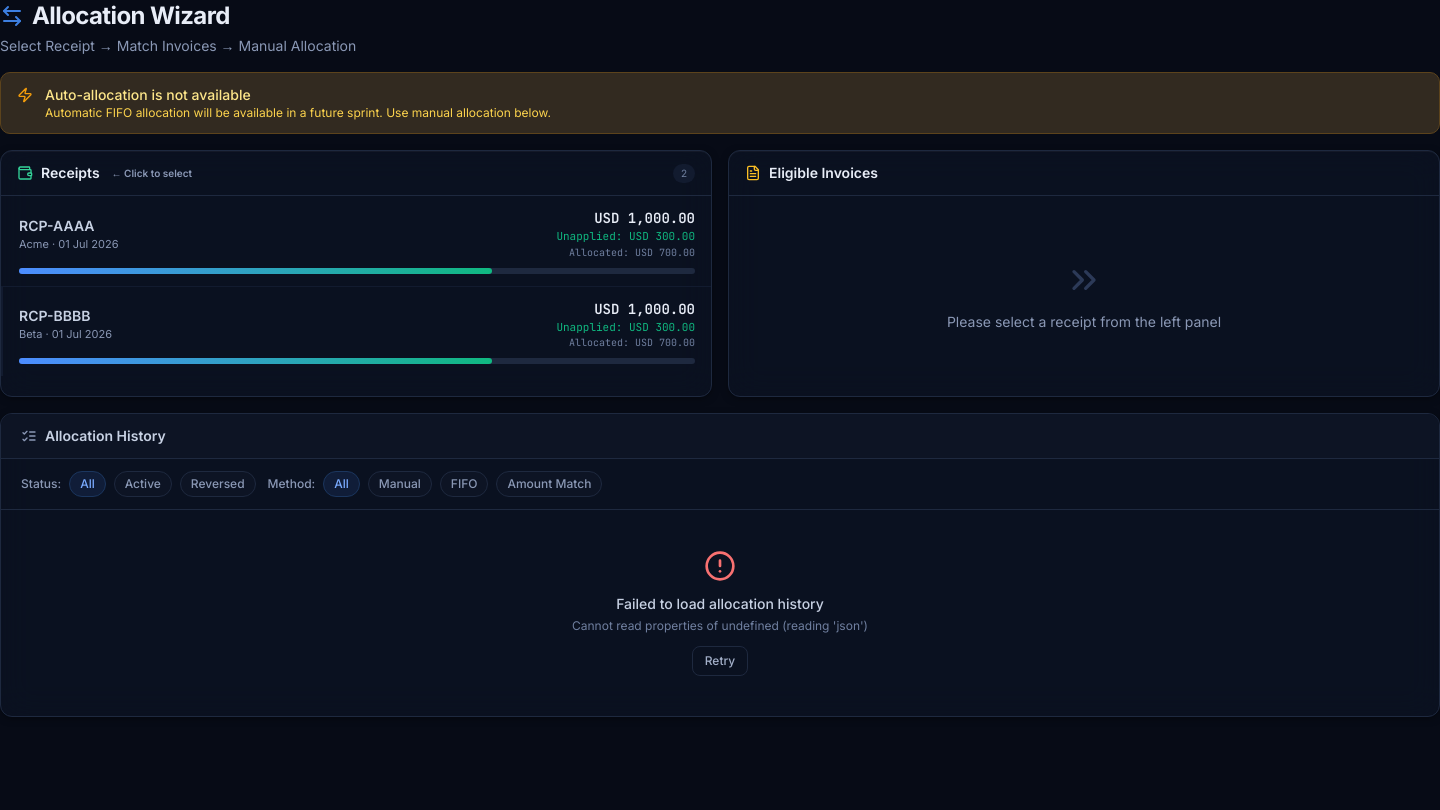
D3/D4 — failed or malformed refetch clears prior state (Phase B) › clears candidates when a refetch returns a malformed contract
Click the text "RCP-AAAA": (57, 225) [19,216,94,234]
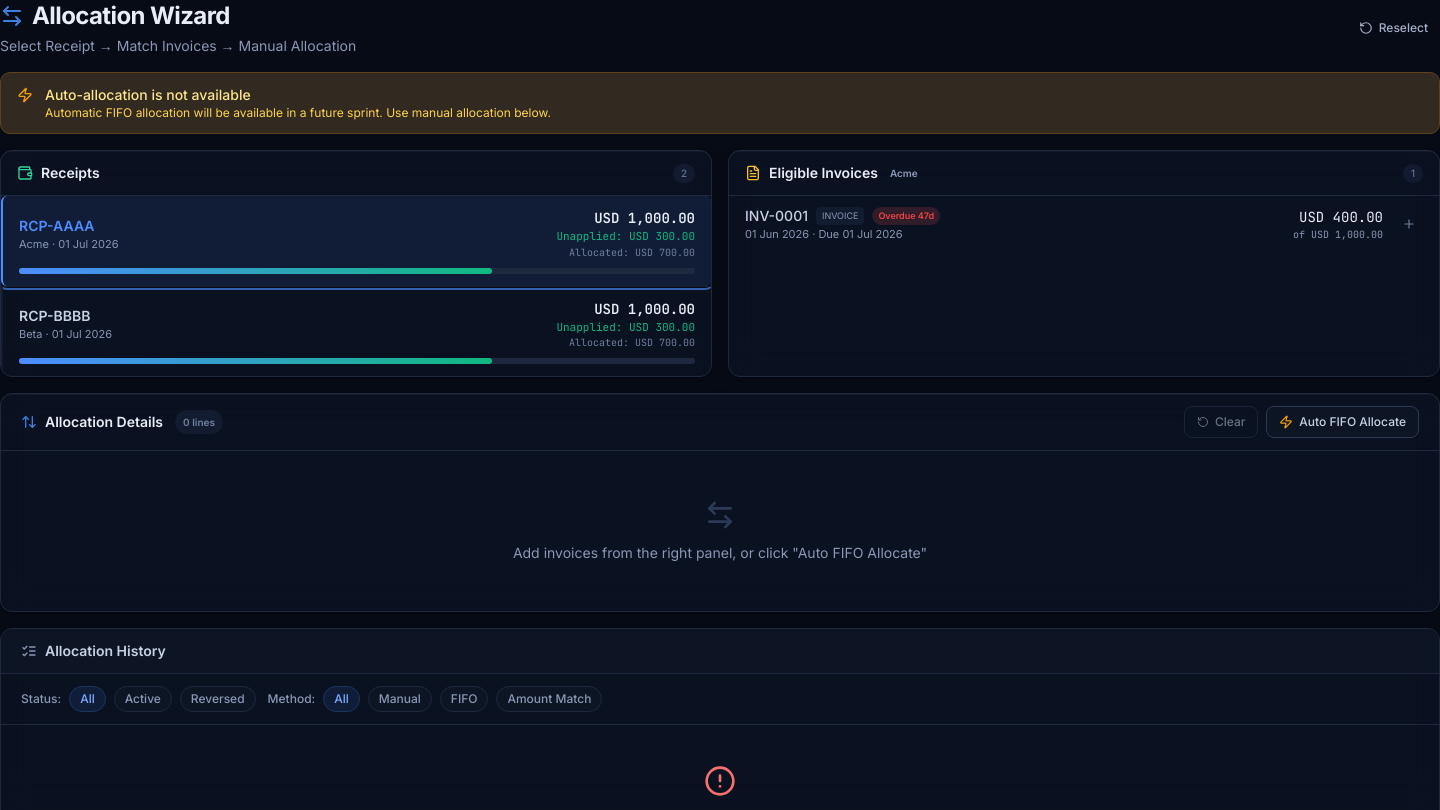
Expected: the text "INV-0001" is shown, [745,206,808,226]
Click the button titled "Add to allocation": (1409, 224) [1395,210,1423,238]
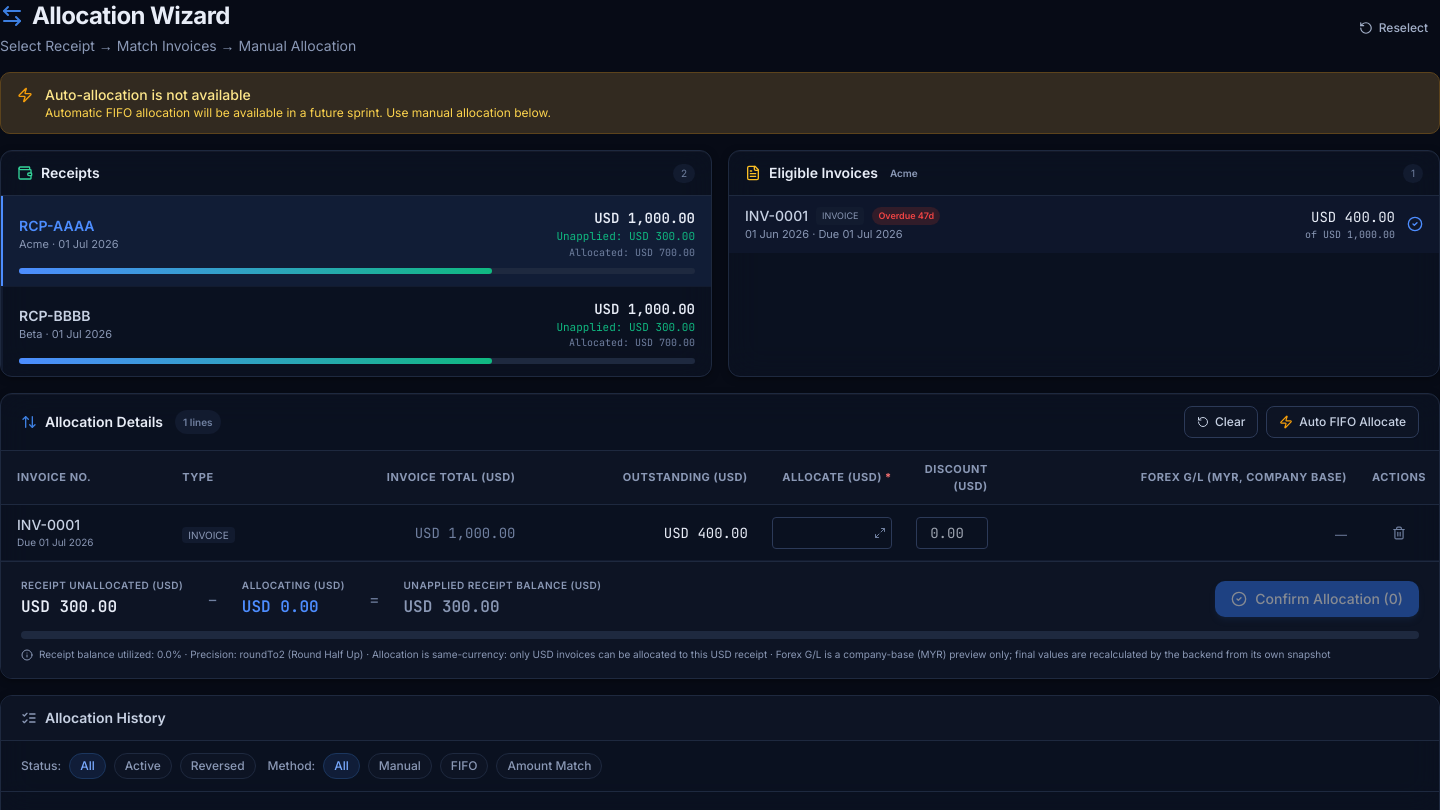
Click the button "Reselect": (1393, 28) [1347,12,1439,44]
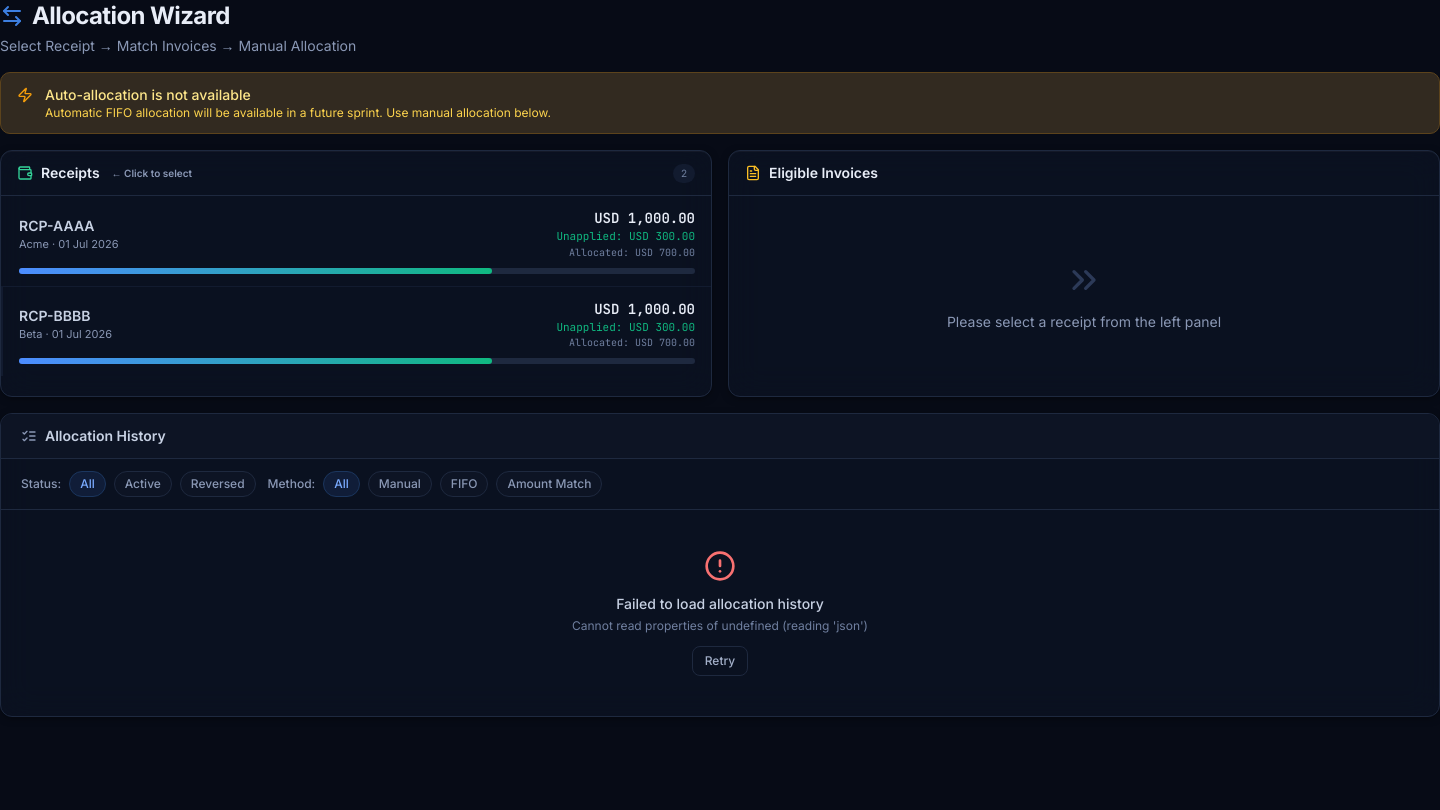
Click the text "RCP-AAAA": (57, 225) [19,216,94,234]
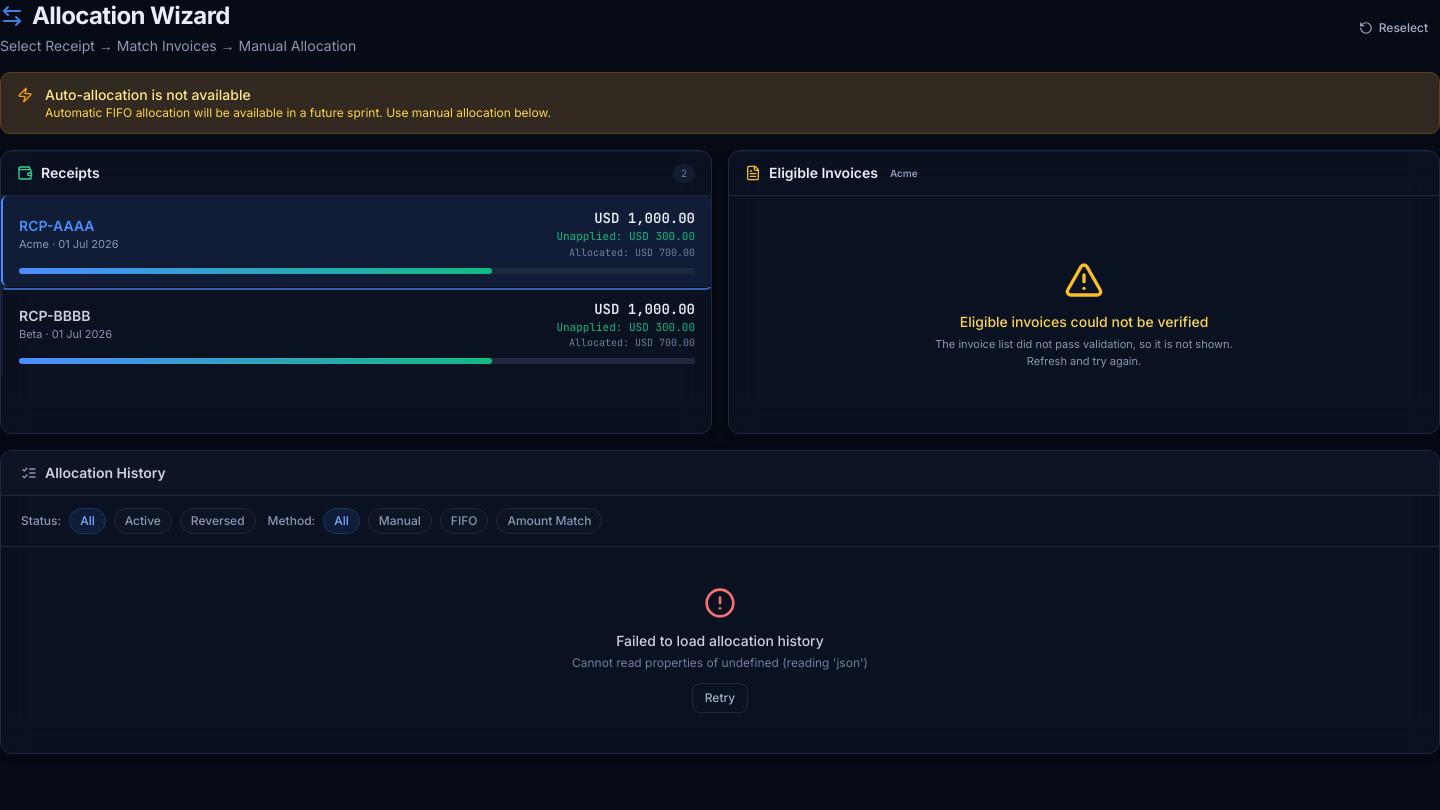
Expected: the text "INV-0001" is not shown
Expected: the text "Eligible invoices could not be verified" is shown, [960,312,1208,332]
